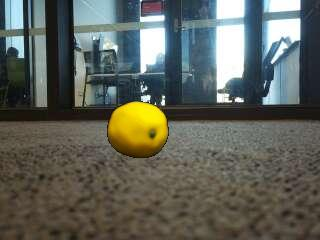lemon: (109, 103, 167, 157)
